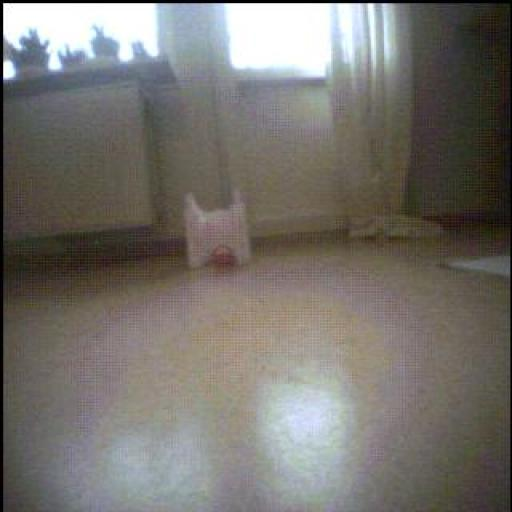Basket: (212, 246, 236, 268)
